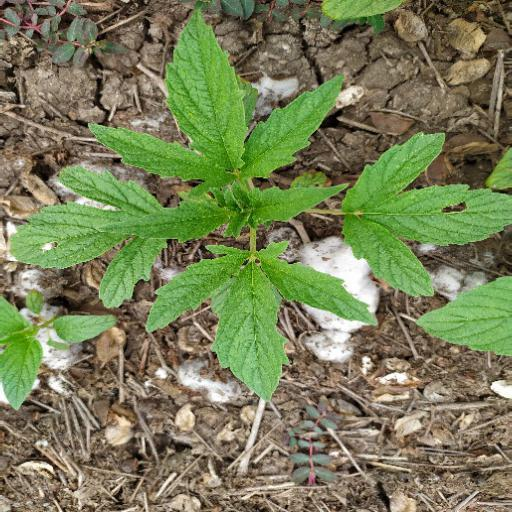crop: (1, 60, 504, 409)
